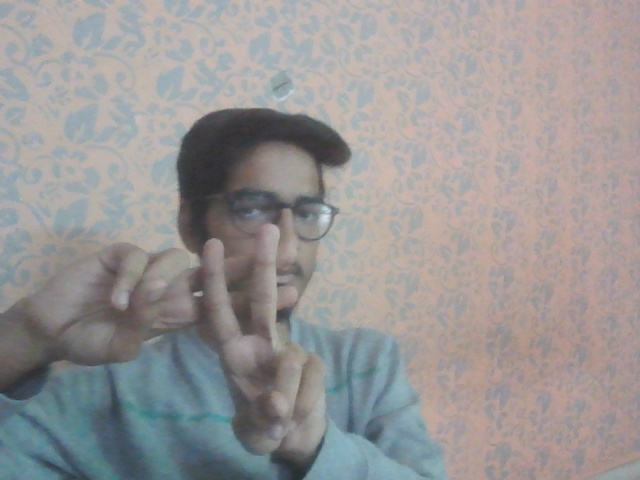HackJMI: (20, 221, 329, 459)
